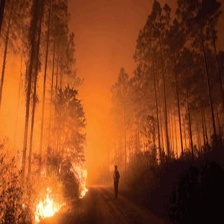fire: (30, 172, 88, 222)
smoke: (26, 5, 203, 147)
